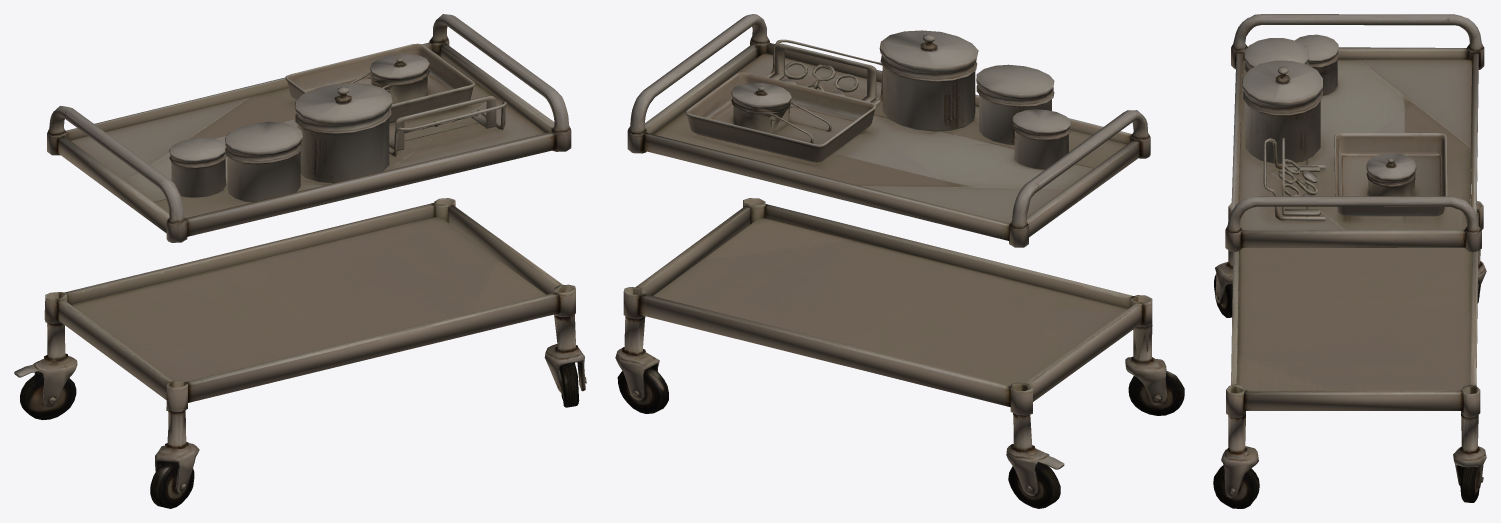
File: furniture-instrument-trolley.glb
The picture shows the model from 3 angles, left to right: view 1: azimuth 30°, elevation 25°; view 2: azimuth 150°, elevation 25°; view 3: azimuth 270°, elevation 25°; orthographic projection. The views are drawn at different scales.
Visible parts, largest first — view 1: tripo_node_8b06aba1-86c8-469c-b758-4e63189e7895; view 2: tripo_node_8b06aba1-86c8-469c-b758-4e63189e7895; view 3: tripo_node_8b06aba1-86c8-469c-b758-4e63189e7895.
Boxes of the visible parts, left/top/right/bottom form: tripo_node_8b06aba1-86c8-469c-b758-4e63189e7895: left=14, top=14, right=586, bottom=508; tripo_node_8b06aba1-86c8-469c-b758-4e63189e7895: left=615, top=14, right=1184, bottom=508; tripo_node_8b06aba1-86c8-469c-b758-4e63189e7895: left=1213, top=14, right=1486, bottom=508.
Bounding box in the file's own units: 1.2 × 0.9 × 0.65.
Materials: 1 (1 with a texture image).
